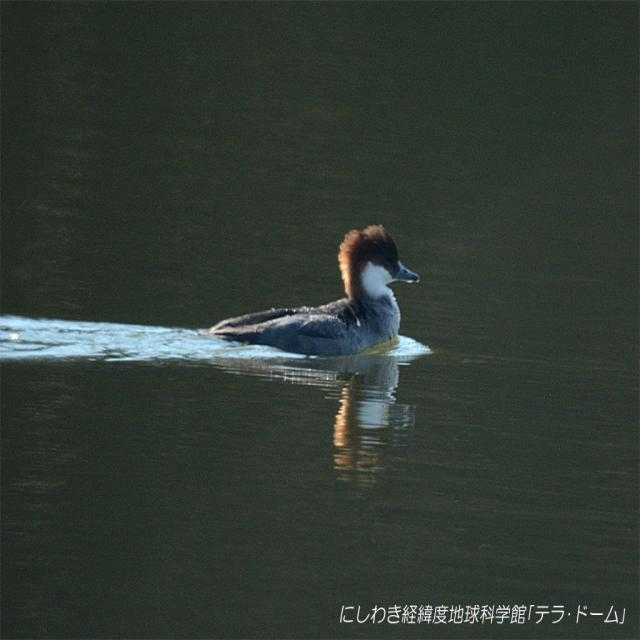bird: (213, 225, 417, 357)
